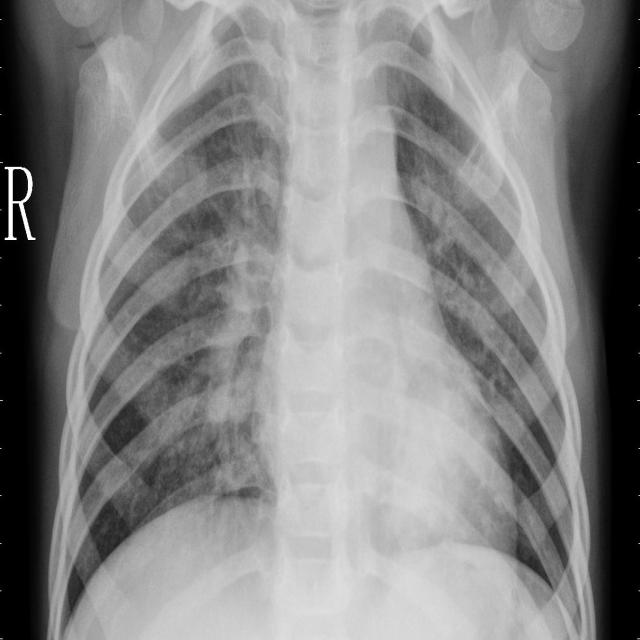low-pneumonia: (210, 134, 285, 494), (413, 165, 472, 268)
